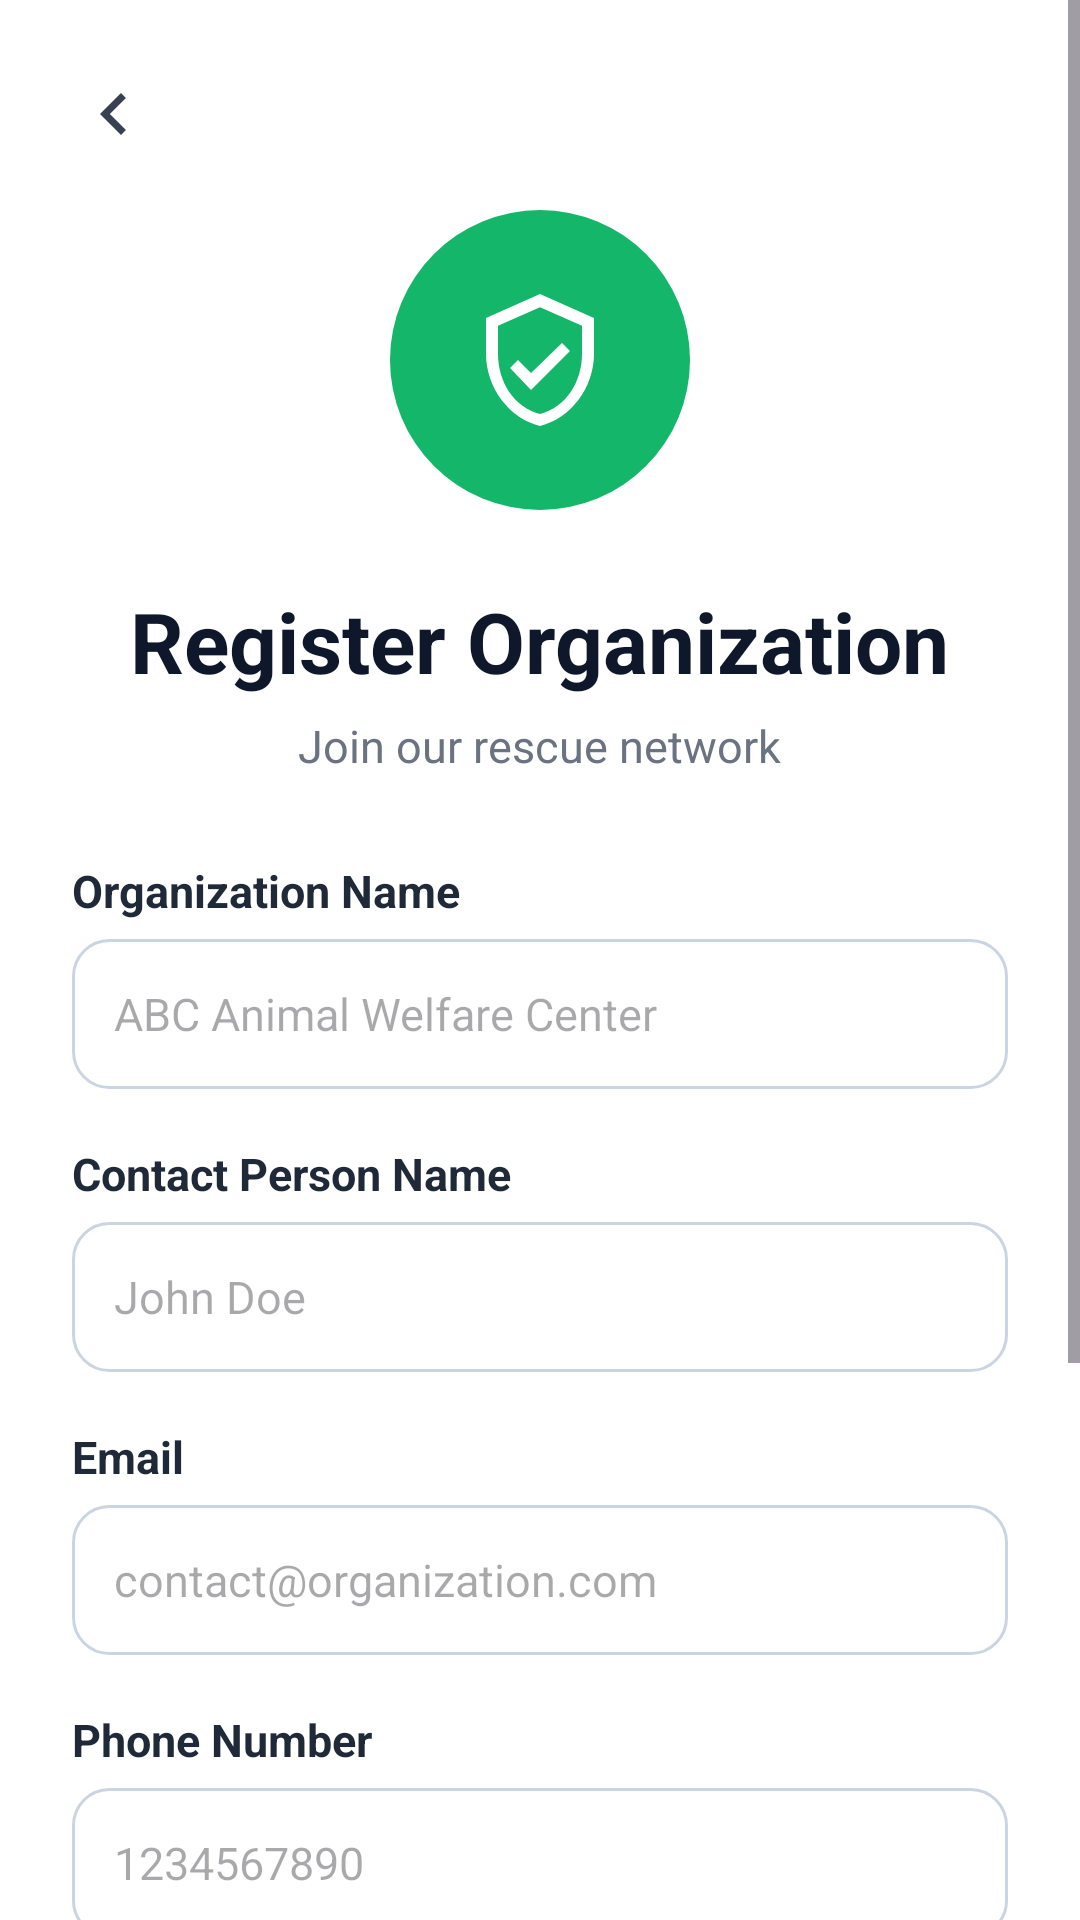

Where to tap for icons on this 1080px x 1920px app screen, as [x,y]:
back: [113,114]
shield: [540,360]
